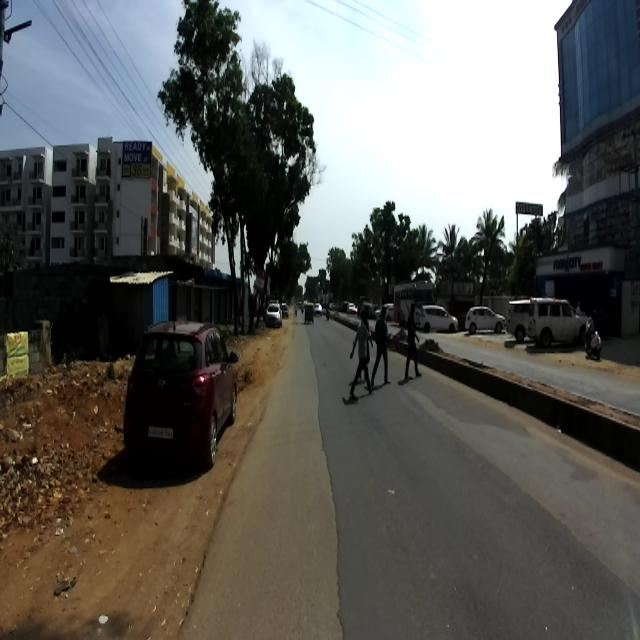car ahead at: (120, 316, 244, 468)
person ahead at: (350, 306, 375, 404), (402, 301, 425, 384), (376, 304, 391, 394)
